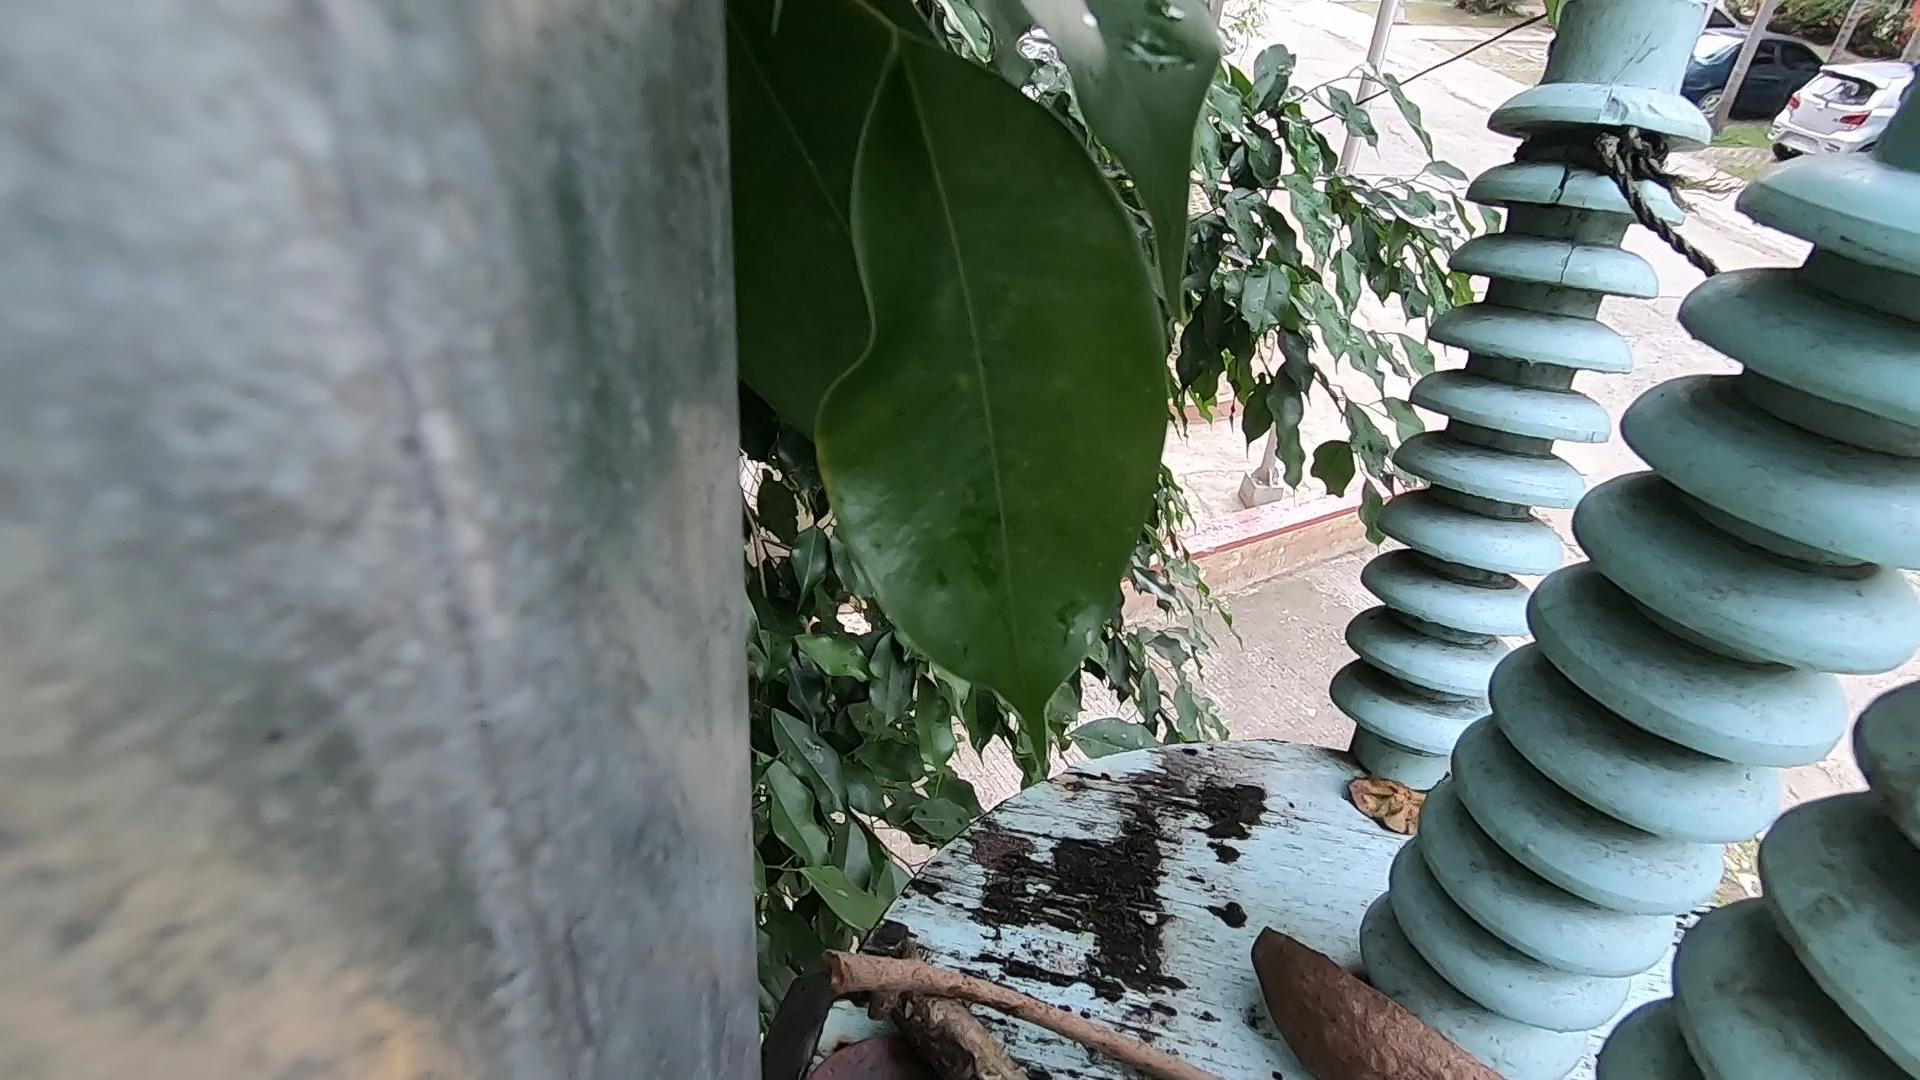branch with leaves: (856, 932, 1095, 1080)
leaf: (1331, 736, 1458, 862), (766, 1005, 905, 1080)
mahogany fruit: (1222, 886, 1425, 1073)
tree branch: (796, 911, 1153, 1058)
